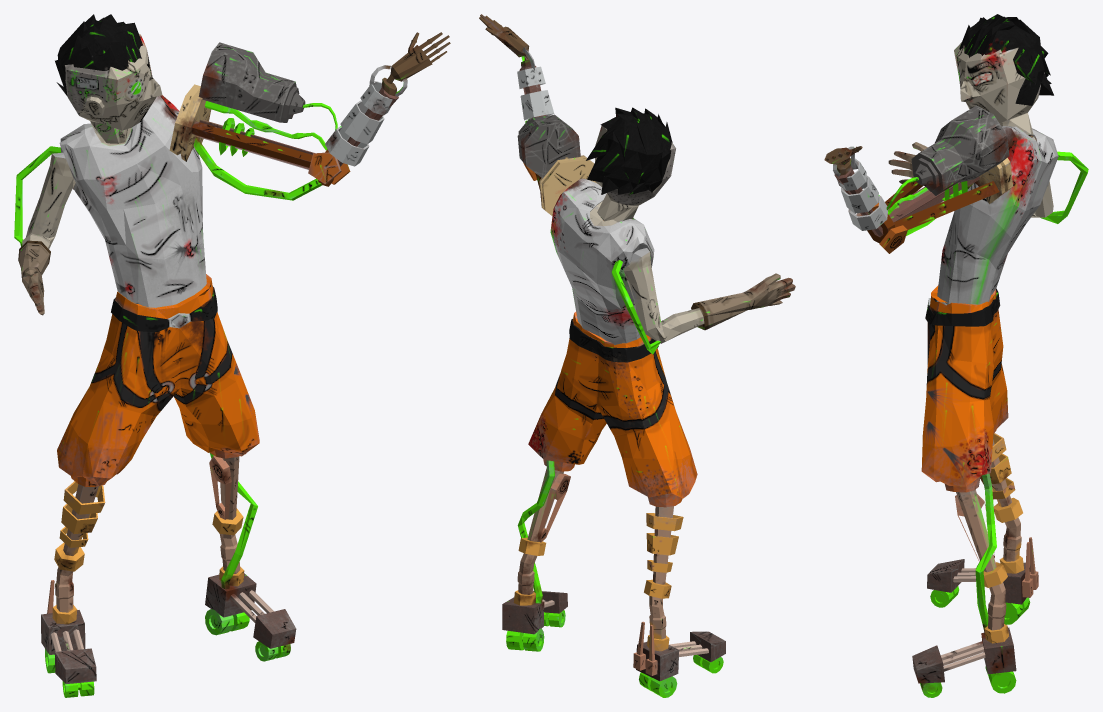
Rendered from CyborgFINALAnimation_000054.obj.
3 renders of one model, left to right at view 1: azimuth 30°, elevation 25°; view 2: azimuth 150°, elevation 25°; view 3: azimuth 270°, elevation 25°, orthographic. The views are drawn at different scales.
Parts seen in each view (by area): view 1: CyborgMesh_Cube.002; view 2: CyborgMesh_Cube.002; view 3: CyborgMesh_Cube.002.
Part boxes in pixels (x1,y1,x2,y2): CyborgMesh_Cube.002: (14,14,450,697); CyborgMesh_Cube.002: (479,14,795,697); CyborgMesh_Cube.002: (824,14,1088,697).
Size of the model in its own units: 5.95 by 9.56 by 3.7.
